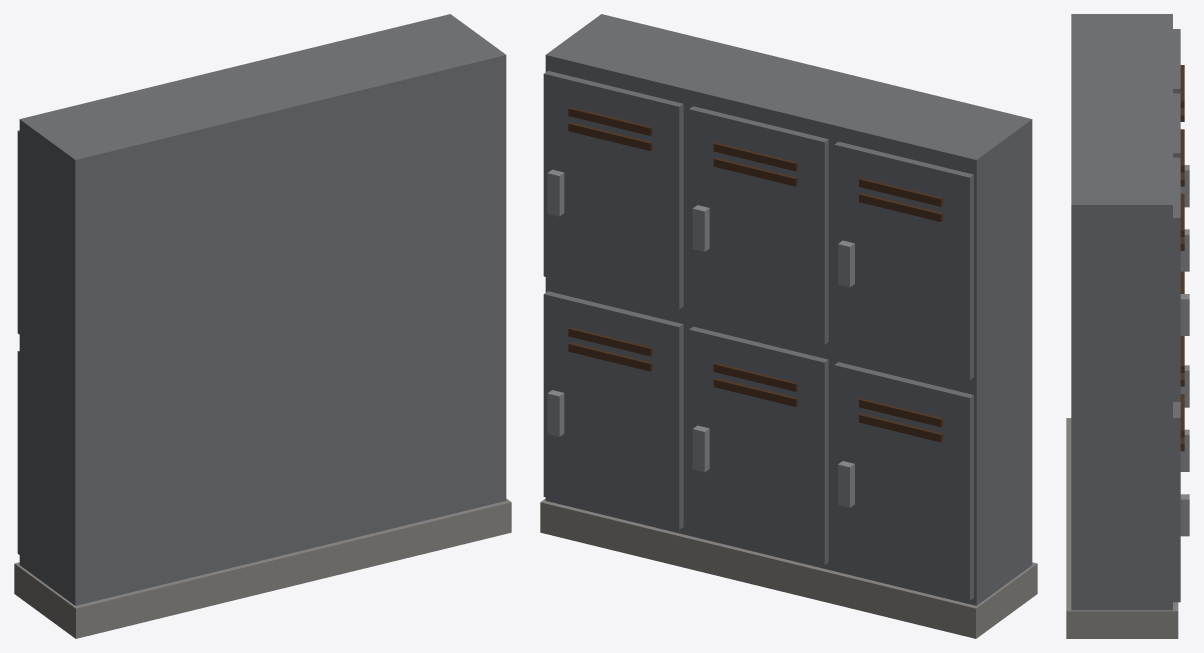
File: SM_K_Locker.obj
3 renders of one model, left to right at view 1: azimuth 30°, elevation 25°; view 2: azimuth 150°, elevation 25°; view 3: azimuth 270°, elevation 25°, orthographic. The views are drawn at different scales.
Parts seen in each view (by area): view 1: SM_K_Locker; view 2: SM_K_Locker; view 3: SM_K_Locker.
Part boxes in pixels (box(x1,y1,x2,y2)): SM_K_Locker: box(14, 14, 511, 638); SM_K_Locker: box(540, 14, 1037, 638); SM_K_Locker: box(1066, 14, 1189, 638).
Size of the model in its own units: 1.8 by 1.88 by 0.485.
